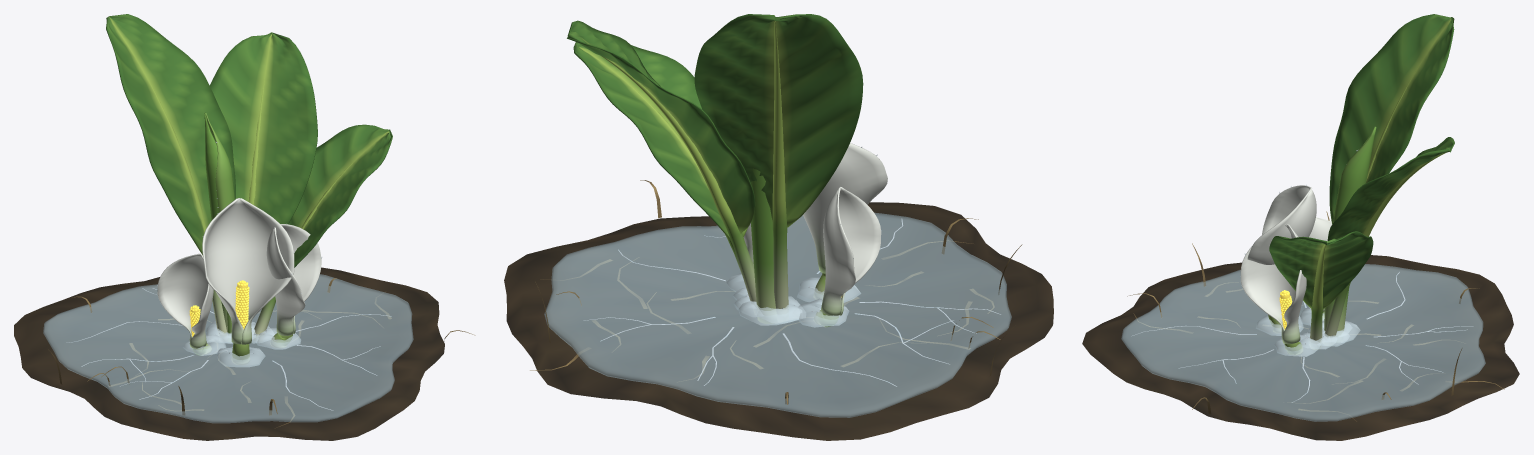
Rendered from f2_ice_mizubasho.glb.
3 renders of one model, left to right at view 1: azimuth 30°, elevation 25°; view 2: azimuth 150°, elevation 25°; view 3: azimuth 270°, elevation 25°, orthographic. The views are drawn at different scales.
Parts seen in each view (by area): view 1: f2_ice_mizubasho; view 2: f2_ice_mizubasho; view 3: f2_ice_mizubasho.
Boxes of the visible parts, box(x1,y1,x2,y2) form: f2_ice_mizubasho: box(14, 14, 475, 440); f2_ice_mizubasho: box(504, 14, 1053, 440); f2_ice_mizubasho: box(1082, 14, 1519, 440).
Bounding box in the file's own units: 0.5116 × 0.3784 × 0.5051.
